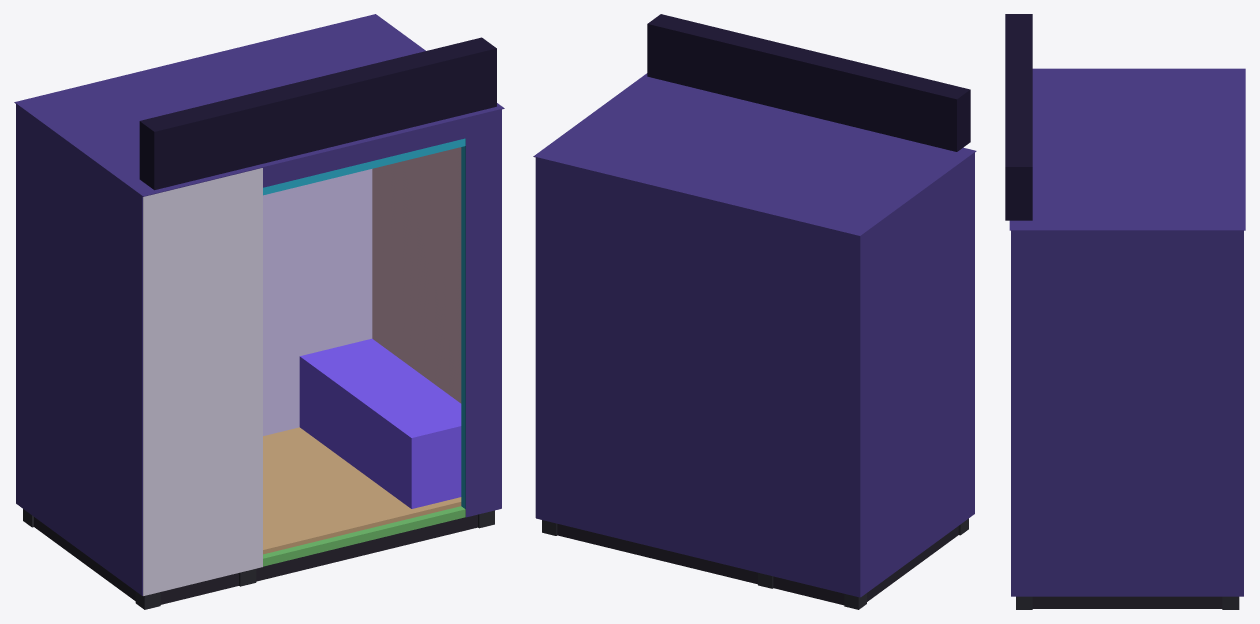
Rendered from mesticker_booth_fab.glb.
The picture shows the model from 3 angles, left to right: view 1: azimuth 30°, elevation 25°; view 2: azimuth 150°, elevation 25°; view 3: azimuth 270°, elevation 25°; orthographic projection. The views are drawn at different scales.
Visible parts, largest first — view 1: M2 Machine end wall, M1 Machine front (aisle face), S1 Sign face, B7 Back wall liner (inside), Bench, B6 Backdrop liner (end wall, inside), B3 Front pillar, B5 Bay roof, B8 Bay floor deck, M5 Machine roof, B4 Front header, P1 Plinth skirt long 0 (+4 smaller); view 2: B1 Bay back wall (outside), M2 Machine end wall, M3 Machine back, B5 Bay roof, S1 Sign face, M5 Machine roof, P1 Plinth skirt long 1, P2 Plinth skirt short 0; view 3: B2 Bay end wall (outside), B5 Bay roof, M5 Machine roof, S1 Sign face, P2 Plinth skirt short 1, B1 Bay back wall (outside), B3 Front pillar.
Boxes of the visible parts, left/top/right/bottom form: M2 Machine end wall: left=16, top=104, right=142, bottom=595; M1 Machine front (aisle face): left=143, top=168, right=262, bottom=595; S1 Sign face: left=139, top=37, right=496, bottom=190; B7 Back wall liner (inside): left=263, top=169, right=372, bottom=435; Bench: left=299, top=338, right=461, bottom=508; B6 Backdrop liner (end wall, inside): left=372, top=147, right=461, bottom=403; B3 Front pillar: left=465, top=109, right=501, bottom=517; B5 Bay roof: left=135, top=14, right=504, bottom=167; B8 Bay floor deck: left=263, top=427, right=461, bottom=554; M5 Machine roof: left=14, top=73, right=264, bottom=196; B4 Front header: left=263, top=118, right=465, bottom=187; P1 Plinth skirt long 0: left=160, top=514, right=477, bottom=604; B1 Bay back wall (outside): left=536, top=157, right=751, bottom=570; M2 Machine end wall: left=860, top=153, right=974, bottom=597; M3 Machine back: left=752, top=210, right=860, bottom=597; B5 Bay roof: left=533, top=73, right=860, bottom=209; S1 Sign face: left=647, top=14, right=970, bottom=151; M5 Machine roof: left=751, top=129, right=976, bottom=236; P1 Plinth skirt long 1: left=557, top=524, right=844, bottom=605; P2 Plinth skirt short 0: left=867, top=526, right=958, bottom=601; B2 Bay end wall (outside): left=1011, top=230, right=1243, bottom=596; B5 Bay roof: left=1009, top=123, right=1245, bottom=230; M5 Machine roof: left=1032, top=68, right=1245, bottom=122; S1 Sign face: left=1005, top=14, right=1032, bottom=220; P2 Plinth skirt short 1: left=1032, top=596, right=1222, bottom=608; B1 Bay back wall (outside): left=1243, top=230, right=1243, bottom=596; B3 Front pillar: left=1011, top=230, right=1011, bottom=596.
Bounding box in the file's own units: 1.82 × 2.31 × 1.14.
